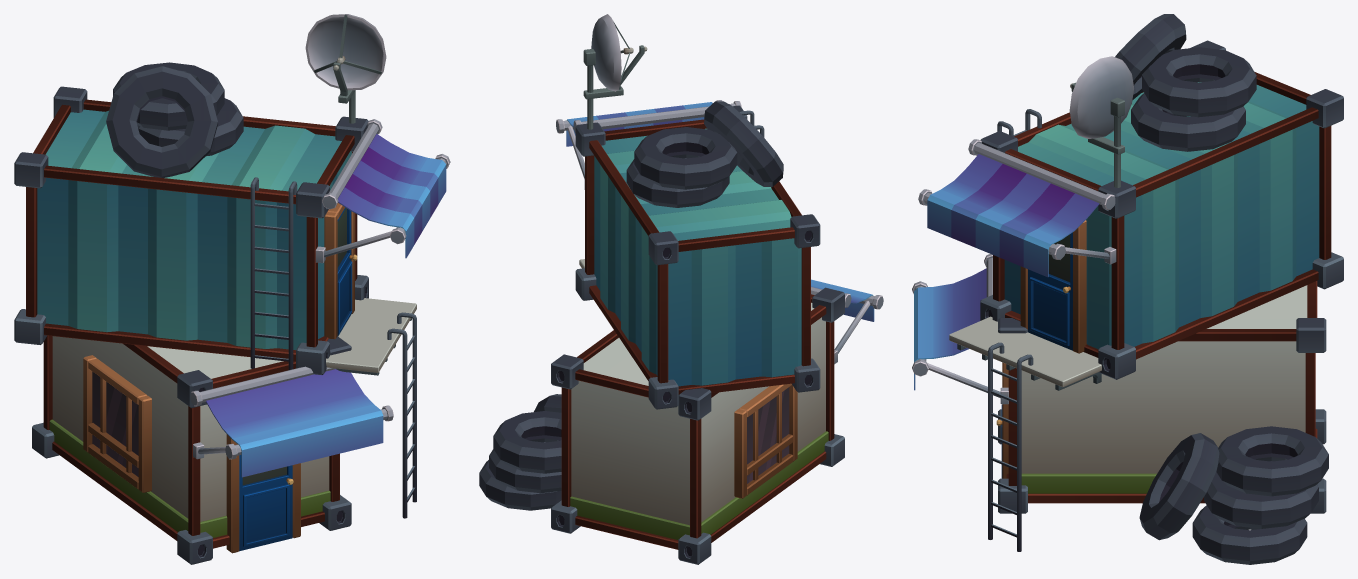
File: sp_prebuild_house_02.fbx
3 renders of one model, left to right at view 1: azimuth 30°, elevation 25°; view 2: azimuth 150°, elevation 25°; view 3: azimuth 270°, elevation 25°, orthographic. The views are drawn at different scales.
Parts seen in each view (by area): view 1: finb_house_02; view 2: finb_house_02; view 3: finb_house_02.
Boxes of the visible parts, x1,y1,x2,y2 form: finb_house_02: (14, 14, 450, 564); finb_house_02: (479, 14, 883, 564); finb_house_02: (912, 14, 1343, 564).
Bounding box in the file's own units: 651 × 803 × 656.
